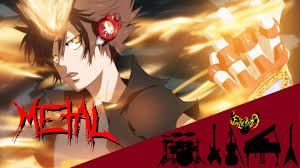Tsuna: (29, 2, 123, 91)
